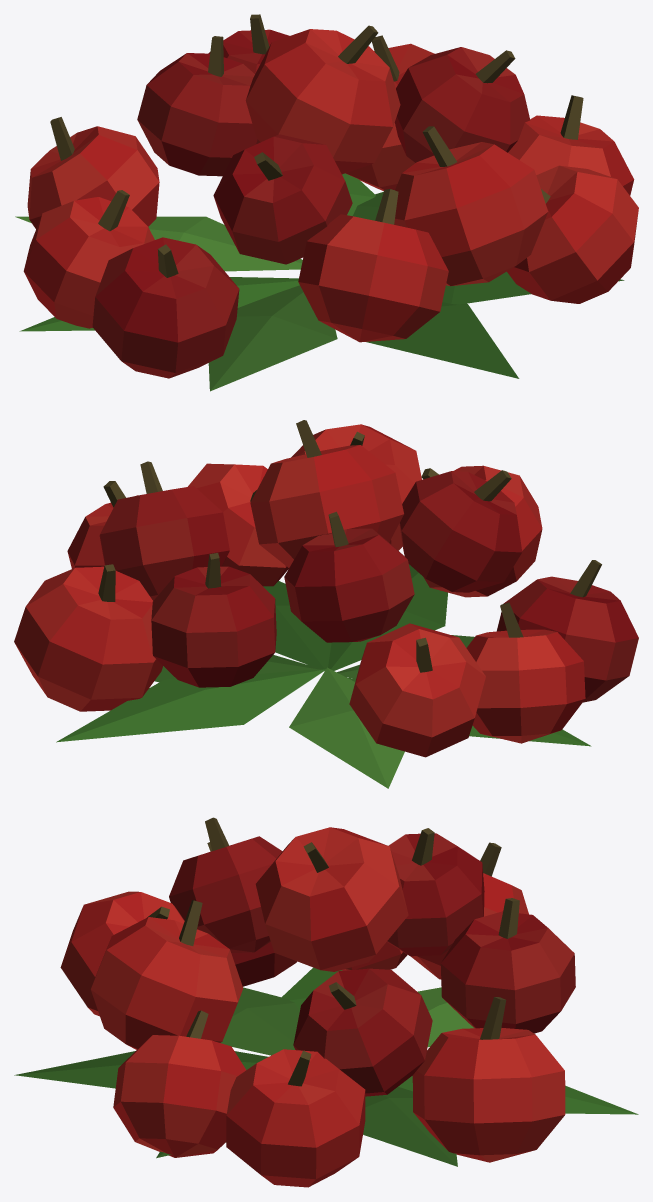
Rendered from storage_fruit.glb.
3 views of the same model, one above another, from view 1: azimuth 30°, elevation 25°; view 2: azimuth 150°, elevation 25°; view 3: azimuth 270°, elevation 25° (orthographic). The views are drawn at different scales.
Visible parts, largest first — view 1: storage_fruit; view 2: storage_fruit; view 3: storage_fruit.
Boxes of the visible parts, x1,y1,x2,y2 form: storage_fruit: (15, 14, 638, 391); storage_fruit: (14, 420, 638, 788); storage_fruit: (14, 817, 638, 1187).
Bounding box in the file's own units: 1.44 × 0.6255 × 1.41.
